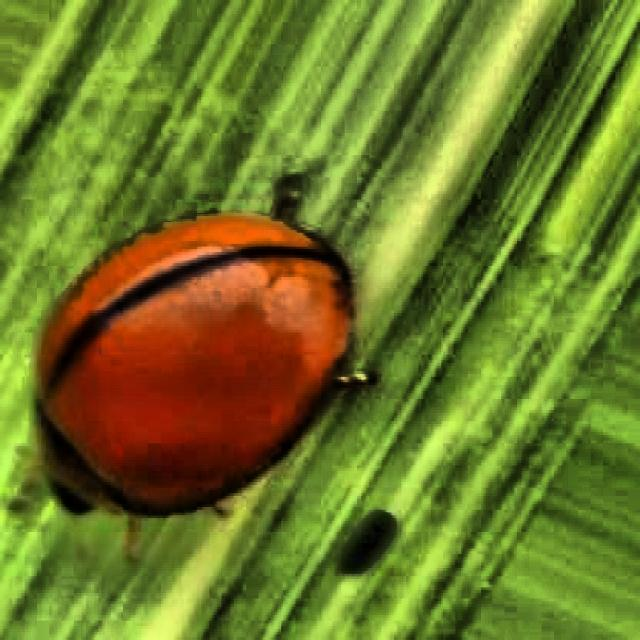Ladybug: (8, 151, 360, 552)
